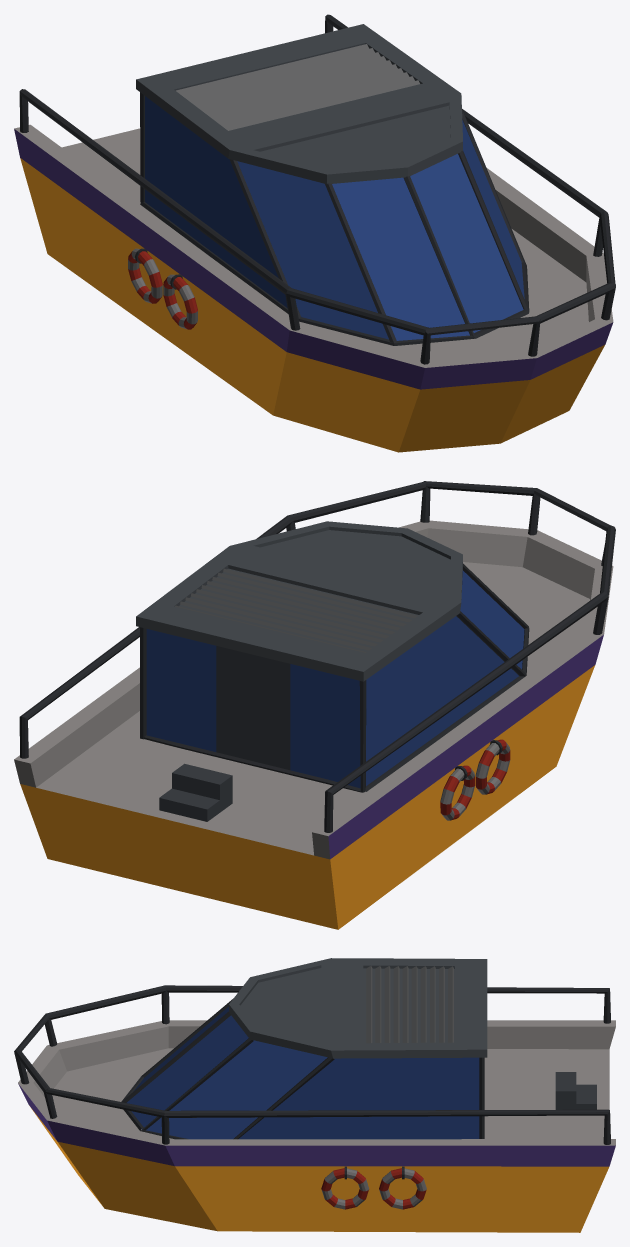
Rendered from Yacht_3.fbx.
The picture shows the model from 3 angles, top to bottom: view 1: azimuth 30°, elevation 25°; view 2: azimuth 150°, elevation 25°; view 3: azimuth 270°, elevation 25°; orthographic projection. The views are drawn at different scales.
Parts seen in each view (by area): view 1: Yacht_3; view 2: Yacht_3; view 3: Yacht_3.
Boxes of the visible parts, x1,y1,x2,y2 form: Yacht_3: (14,14,615,452); Yacht_3: (14,481,615,929); Yacht_3: (14,958,615,1232).
Bounding box in the file's own units: 479 × 287 × 917.
